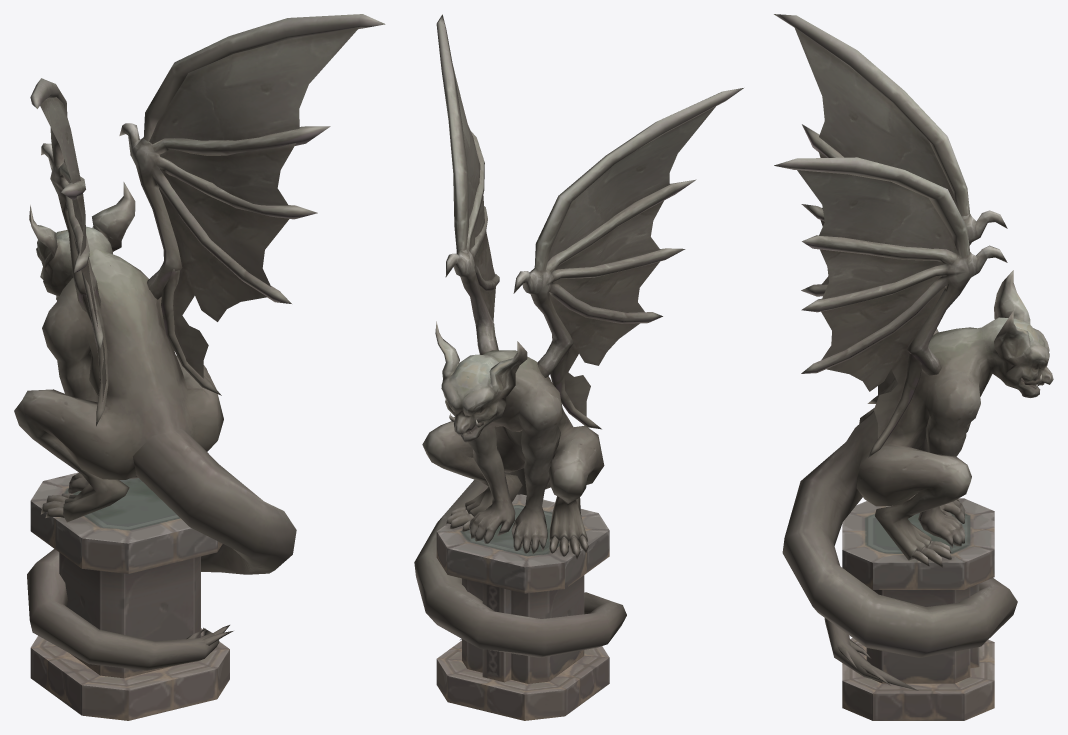
Rendered from sc_dungeon_moshenta_diaoxiang_003_a.FBX.
The picture shows the model from 3 angles, left to right: view 1: azimuth 30°, elevation 25°; view 2: azimuth 150°, elevation 25°; view 3: azimuth 270°, elevation 25°; orthographic projection. The views are drawn at different scales.
Parts seen in each view (by area): view 1: sc_dungeon_moshenta_diaoxiang_003_a; view 2: sc_dungeon_moshenta_diaoxiang_003_a; view 3: sc_dungeon_moshenta_diaoxiang_003_a.
Boxes of the visible parts, <box> form: sc_dungeon_moshenta_diaoxiang_003_a: <box>14,14,385,720</box>; sc_dungeon_moshenta_diaoxiang_003_a: <box>414,14,743,720</box>; sc_dungeon_moshenta_diaoxiang_003_a: <box>774,14,1053,720</box>.
Bounding box in the file's own units: 5.59 × 4.37 × 10.35.
1 material, 1 textured.
